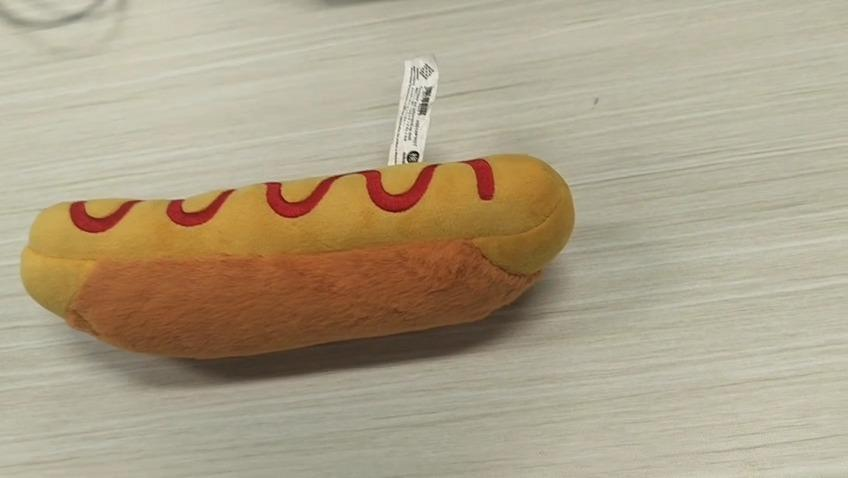hotdog: (19, 151, 576, 361)
